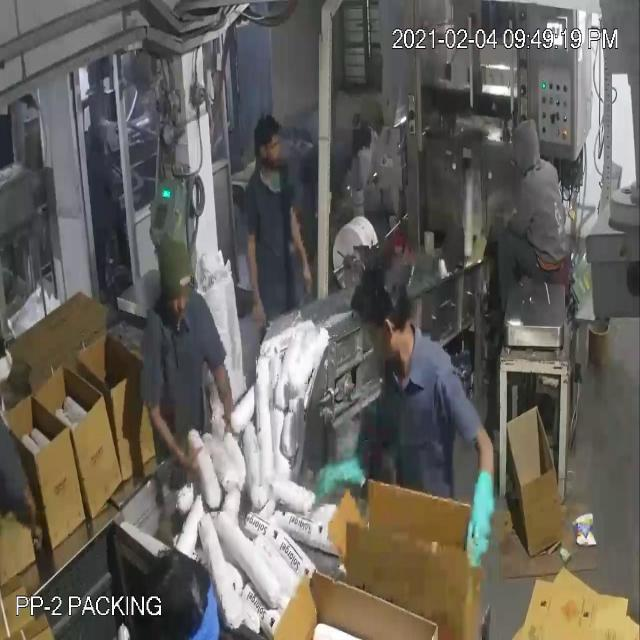No_Gloves: (34, 86, 480, 518)
